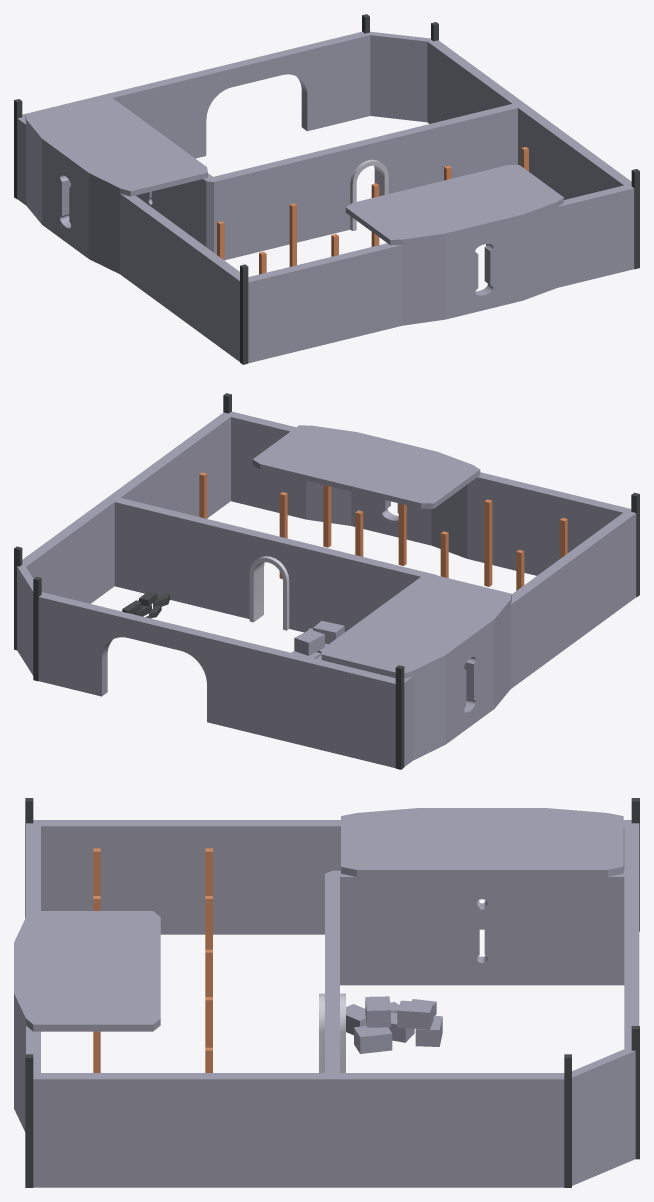
File: Caserne_construct.fbx
3 renders of one model, top to bottom at view 1: azimuth 30°, elevation 25°; view 2: azimuth 150°, elevation 25°; view 3: azimuth 270°, elevation 25°, orthographic. The views are drawn at different scales.
Parts seen in each view (by area): view 1: wall_straightGallerySlit%_280, wall_straight_300, floor_squareGallery%_292, floor_squareGallery%_282, wall_cornerDiagonal_259, wall_straight_293, wall_corner_296, wall_straight_262, wall_straightGallerySlit%_291, wall_half_283, wall_doorwayRound_268, wall_straight_285 (+11 smaller); view 2: floor_squareGallery%_292, floor_squareGallery%_282, wall_straight_262, wall_straight_293, wall_half_283, wall_straight_300, wall_straightGallerySlit%_291, wall_corner_295, wall_straight_298, wall_straightGallerySlit%_280, wall_doorwayRound_268, wall_cornerDiagonal_259 (+15 smaller); view 3: wall_straight_262, wall_straight_293, floor_squareGallery%_292, floor_squareGallery%_282, wall_cornerDiagonal_259, wall_corner_295, wall_corner_296, wall_slit_297, wall_half_277, debris_bricks_306, wall_half_288, wall_doorwayRound_268 (+11 smaller).
Part boxes in pixels (x1,y1,x2,y2): wall_straightGallerySlit%_280: (402,207,556,325); wall_straight_300: (265,243,402,356); floor_squareGallery%_292: (25,95,207,196); floor_squareGallery%_282: (345,165,563,245); wall_cornerDiagonal_259: (327,31,457,124); wall_straight_293: (120,193,238,350); wall_corner_296: (161,161,290,259); wall_straight_262: (445,49,628,199); wall_straightGallerySlit%_291: (26,125,119,273); wall_half_283: (401,103,517,189); wall_doorwayRound_268: (322,131,408,234); wall_straight_285: (557,190,611,287); floor_squareGallery%_292: (321,574,511,678); floor_squareGallery%_282: (252,425,480,508); wall_straight_262: (38,416,225,603); wall_straight_293: (510,517,623,688); wall_half_283: (114,498,234,614); wall_straight_300: (467,472,614,575); wall_straightGallerySlit%_291: (413,605,510,760); wall_corner_295: (233,640,368,748); wall_straight_298: (314,660,395,767); wall_straightGallerySlit%_280: (306,481,467,558); wall_doorwayRound_268: (228,526,318,631); wall_cornerDiagonal_259: (17,547,80,689); wall_straight_262: (43,1073,532,1187); wall_straight_293: (53,820,340,934); floor_squareGallery%_292: (341,808,623,876); floor_squareGallery%_282: (14,911,160,1031); wall_cornerDiagonal_259: (505,1022,638,1187); wall_corner_295: (512,870,639,985); wall_corner_296: (325,870,452,985); wall_slit_297: (416,877,547,985); wall_half_277: (33,1073,74,1187); debris_bricks_306: (346,996,442,1053); wall_half_288: (29,820,74,910); wall_doorwayRound_268: (319,946,345,1072).
Bounding box in the file's own units: 52.31 × 12 × 52.31.
